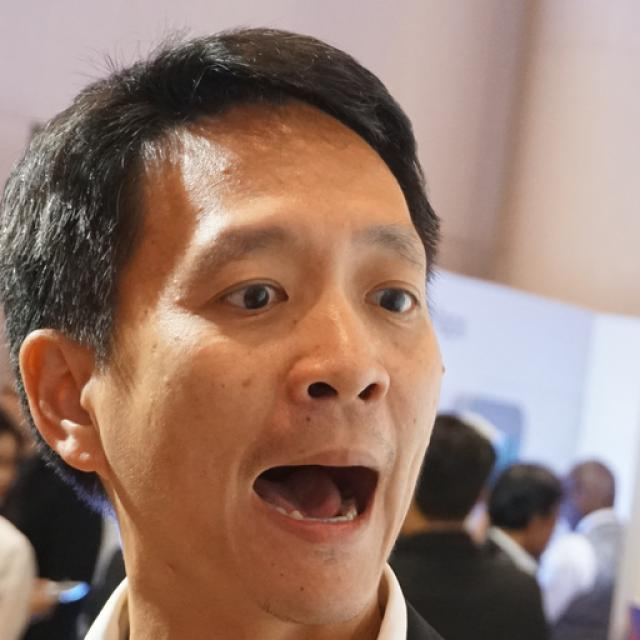surprise: (100, 101, 444, 623)
